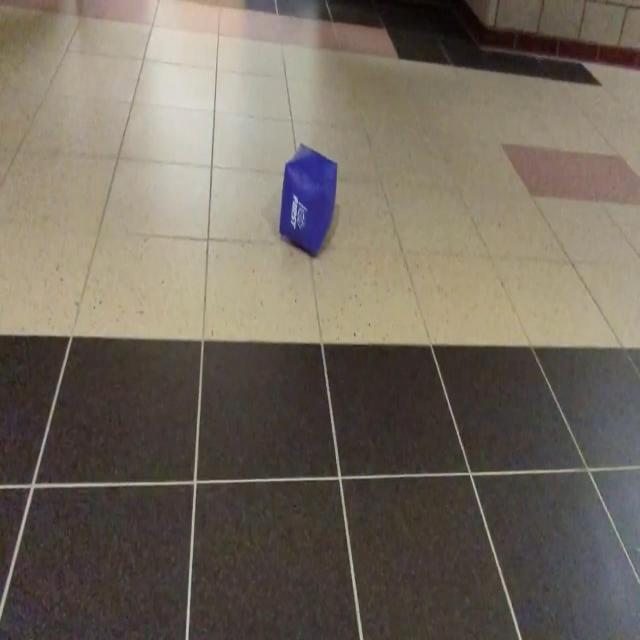frc_cube: (278, 145, 336, 255)
